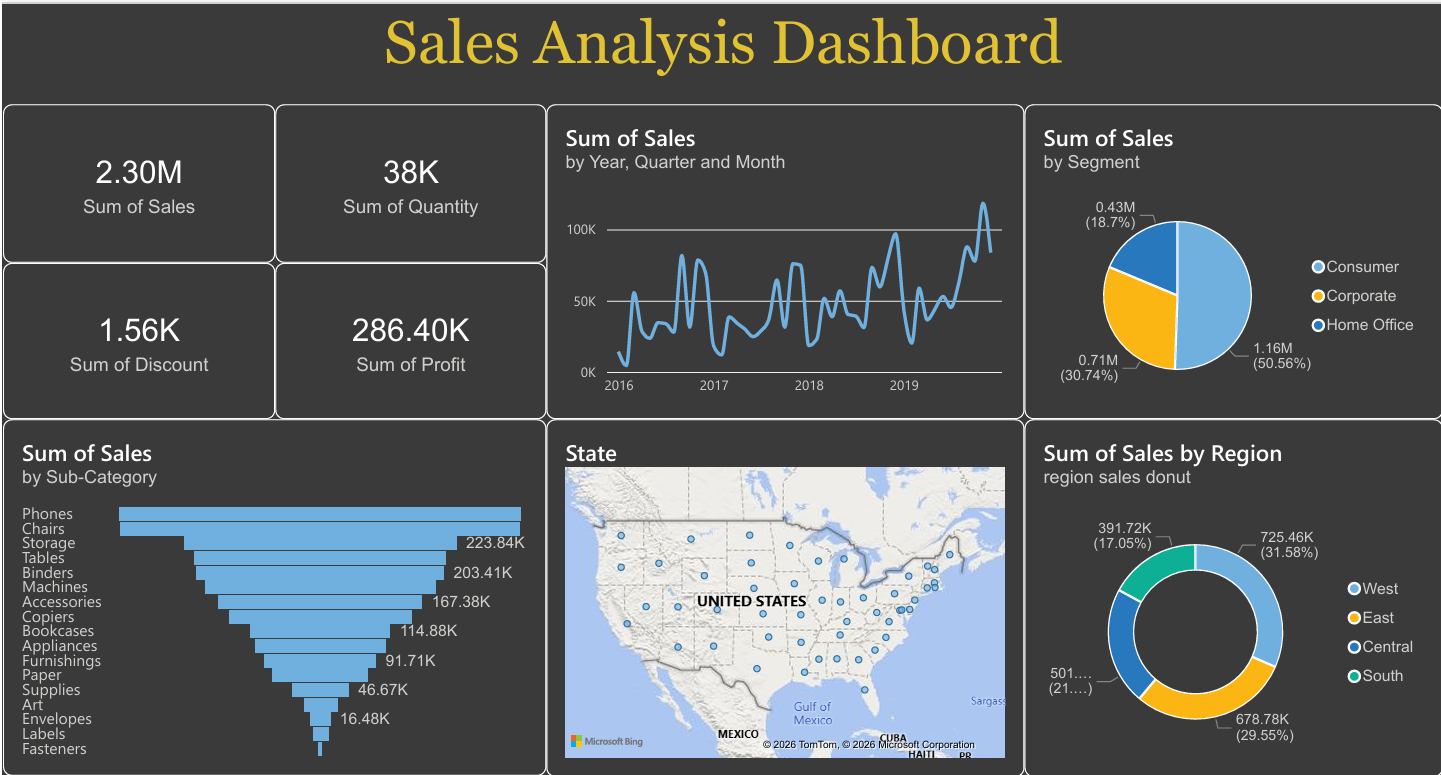

Layout of this report page (visuals, bound fields, positions):
{"tool":"powerbi","page":{"name":"Page 1","canvas":[1280,720],"ordinal":0},"visuals":[{"type":"donutChart","fields":{"Category":["Orders.Region"],"Y":["Sum(Orders.Sales)"]},"box":[907.8,401.6,371.9,318.8],"z":0},{"type":"funnel","fields":{"Category":["Orders.Sub-Category"],"Y":["Sum(Orders.Sales)"]},"box":[0,401.6,482.8,317.2],"z":1},{"type":"map","fields":{"Category":["Orders.State"]},"box":[482.8,401.6,425,318.8],"z":2},{"type":"pieChart","fields":{"Category":["Orders.Segment"],"Y":["Sum(Orders.Sales)"]},"box":[907.8,121.9,371.9,279.7],"z":3},{"type":"lineChart","fields":{"Category":["Orders.Order Date.Variation.Date Hierarchy.Year","Orders.Order Date.Variation.Date Hierarchy.Quarter","Orders.Order Date.Variation.Date Hierarchy.Month"],"Y":["Sum(Orders.Sales)"]},"box":[482.8,121.9,425,279.7],"z":4},{"type":"card","fields":{"Values":["Sum(Orders.Sales)"]},"box":[0,121.9,242.2,140.6],"z":5},{"type":"card","fields":{"Values":["Sum(Orders.Discount)"]},"box":[0,262.5,242.2,139.1],"z":6},{"type":"card","fields":{"Values":["Sum(Orders.Profit)"]},"box":[242.2,262.5,240.6,139.1],"z":7},{"type":"card","fields":{"Values":["Sum(Orders.Quantity)"]},"box":[242.2,121.9,240.6,140.6],"z":8},{"type":"textbox","box":[0,35.9,1279.7,64.1],"z":9}]}

Visuals, with their boxes in screenshot pixels (x1, y1, x2, y2):
donutChart - Orders.Region x Sum(Orders.Sales): (1031, 418, 1440, 774)
funnel - Orders.Sub-Category x Sum(Orders.Sales): (0, 418, 545, 774)
map - Orders.State: (545, 418, 1031, 774)
pieChart - Orders.Segment x Sum(Orders.Sales): (1031, 98, 1440, 418)
lineChart - Orders.Order Date.Variation.Date Hierarchy.Year x Orders.Order Date.Variation.Date Hierarchy.Quarter: (545, 98, 1031, 418)
card - Sum(Orders.Sales): (0, 98, 269, 259)
card - Sum(Orders.Discount): (0, 259, 269, 418)
card - Sum(Orders.Profit): (269, 259, 545, 418)
card - Sum(Orders.Quantity): (269, 98, 545, 259)
textbox: (0, 0, 1440, 73)
